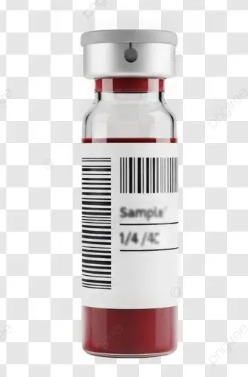barcode: (130, 132, 192, 245)
